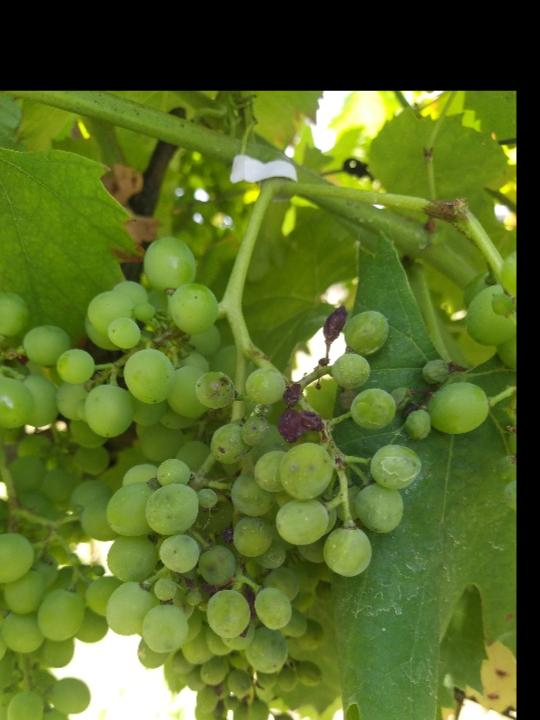grape: (52, 237, 424, 678)
